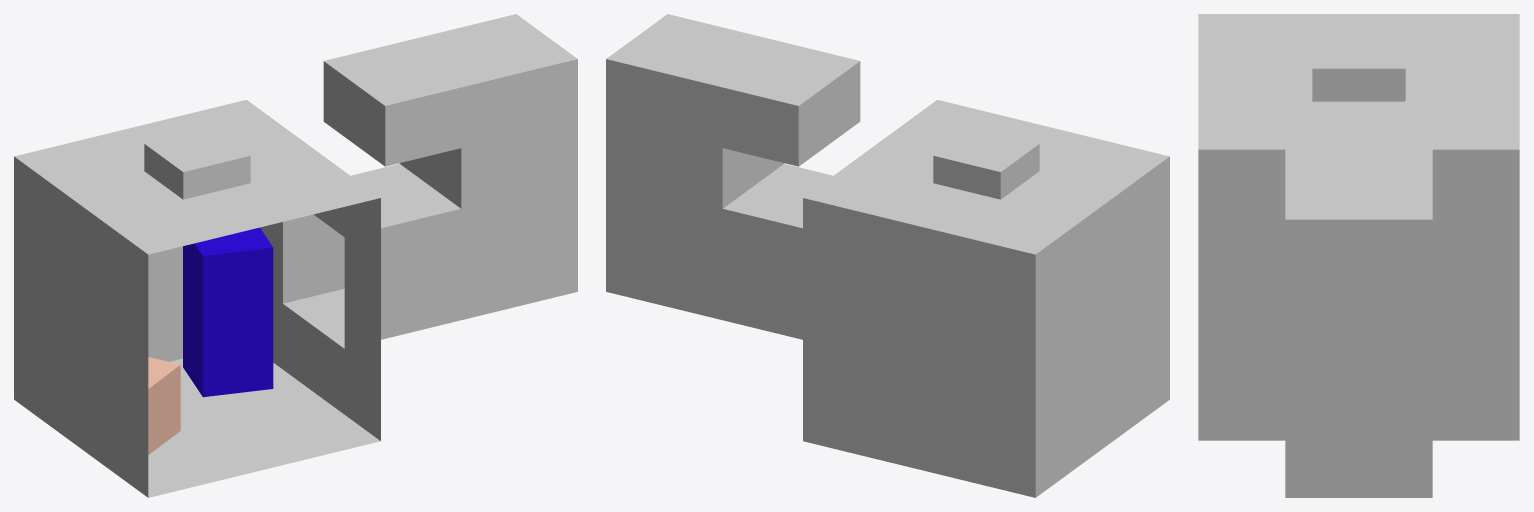
File: ReflectionRoom3.glb
3 views of the same model, side by side, from view 1: azimuth 30°, elevation 25°; view 2: azimuth 150°, elevation 25°; view 3: azimuth 270°, elevation 25° (orthographic). The views are drawn at different scales.
Visible parts, largest first — view 1: Cube.001, Cube.003, Cube.002; view 2: Cube.001; view 3: Cube.001.
Boxes of the visible parts, x1,y1,x2,y2 form: Cube.001: (14,14,577,497); Cube.003: (183,227,273,397); Cube.002: (148,357,180,454); Cube.001: (606,14,1169,497); Cube.001: (1198,14,1519,497).
Bounding box in the file's own units: 32.06 × 19.65 × 16.
